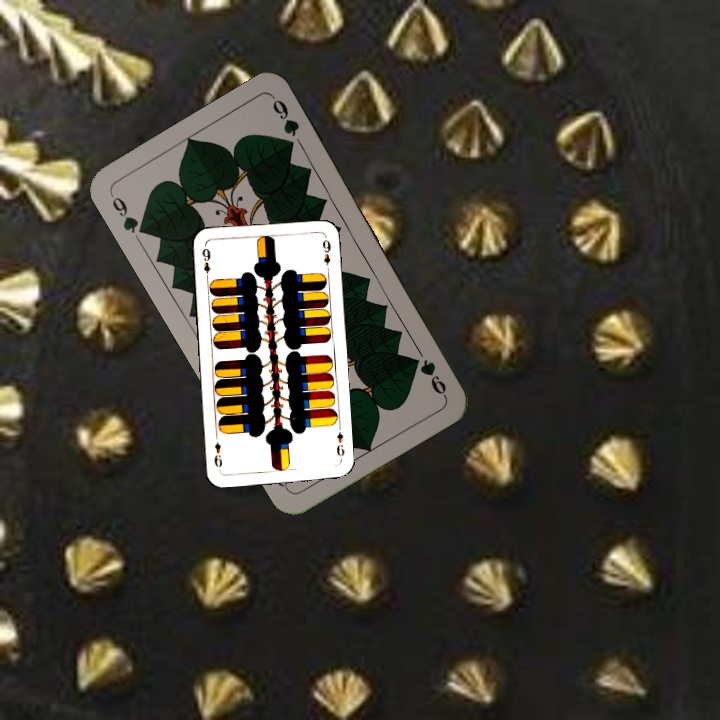E9: (198, 243, 213, 283), (333, 423, 347, 463)
G9: (106, 190, 151, 238), (413, 345, 449, 399)
